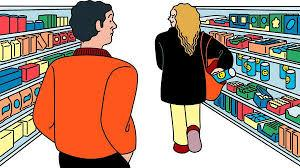shoplifting: (196, 52, 252, 96)
